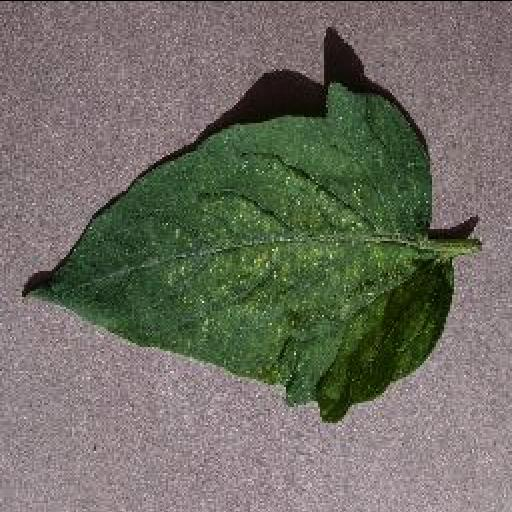disease_tomato: (20, 78, 452, 422)
